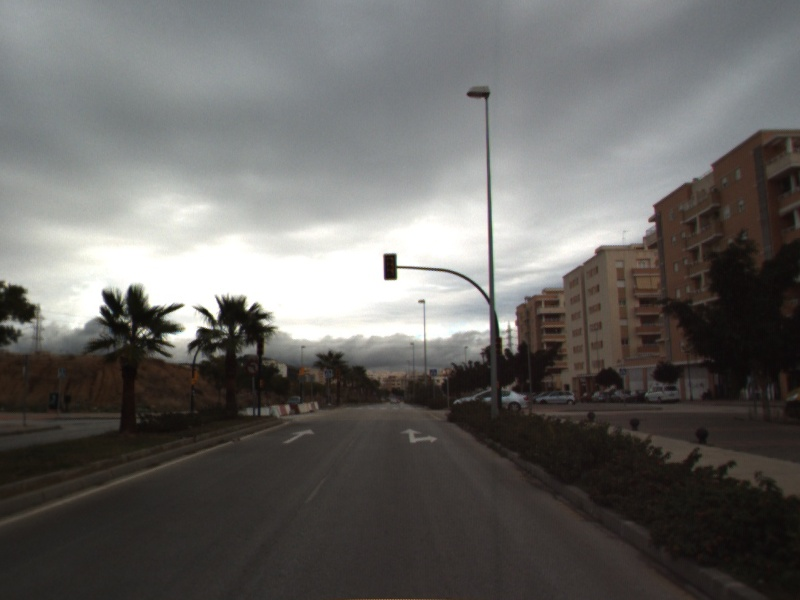STRAIGHT: (281, 427, 317, 445)
STRAIGHT_RIGHT: (398, 426, 440, 445)
